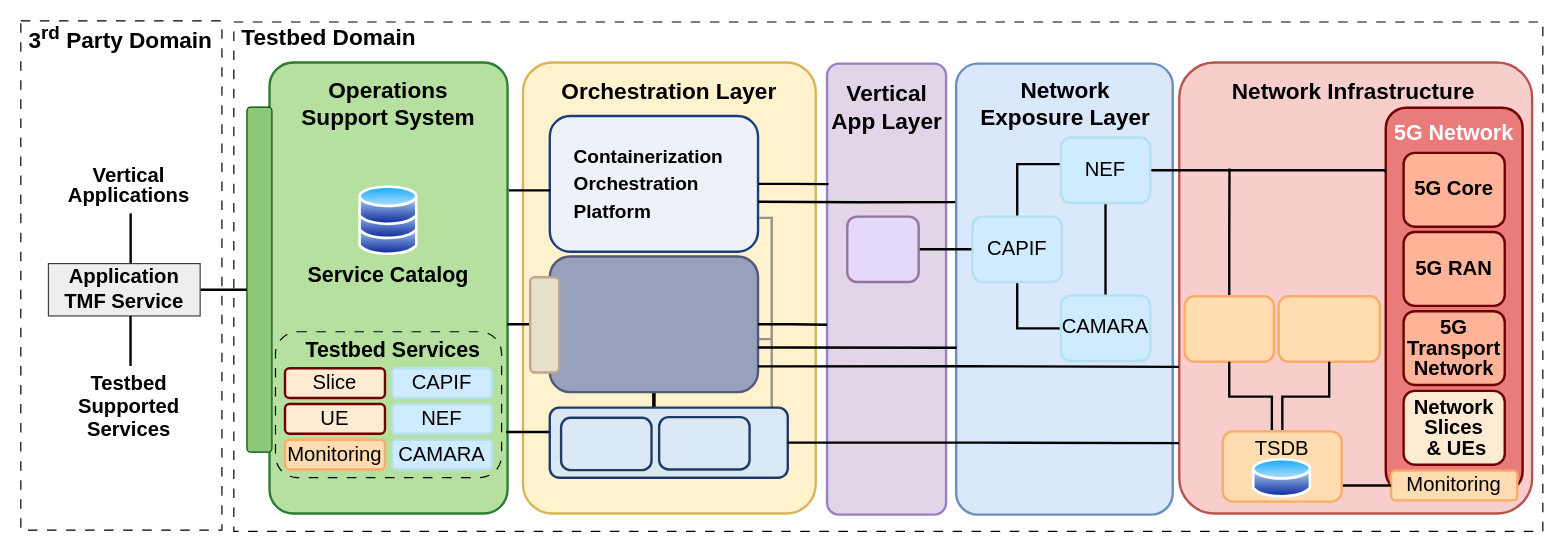
Image size: 1564x552. Some labels were removed from this diagram. Each missing label, with the box of its shape:
Dashboard: (1277, 295, 1380, 362)
MANO / NFVO: (548, 255, 759, 393)
NSMF: (559, 416, 652, 471)
NSSMF: (657, 415, 750, 470)
Prober Process: (1183, 295, 1274, 362)
SOL005: (528, 275, 560, 373)
TM F APIs: (246, 106, 272, 452)
Vertical App: (845, 215, 919, 283)
